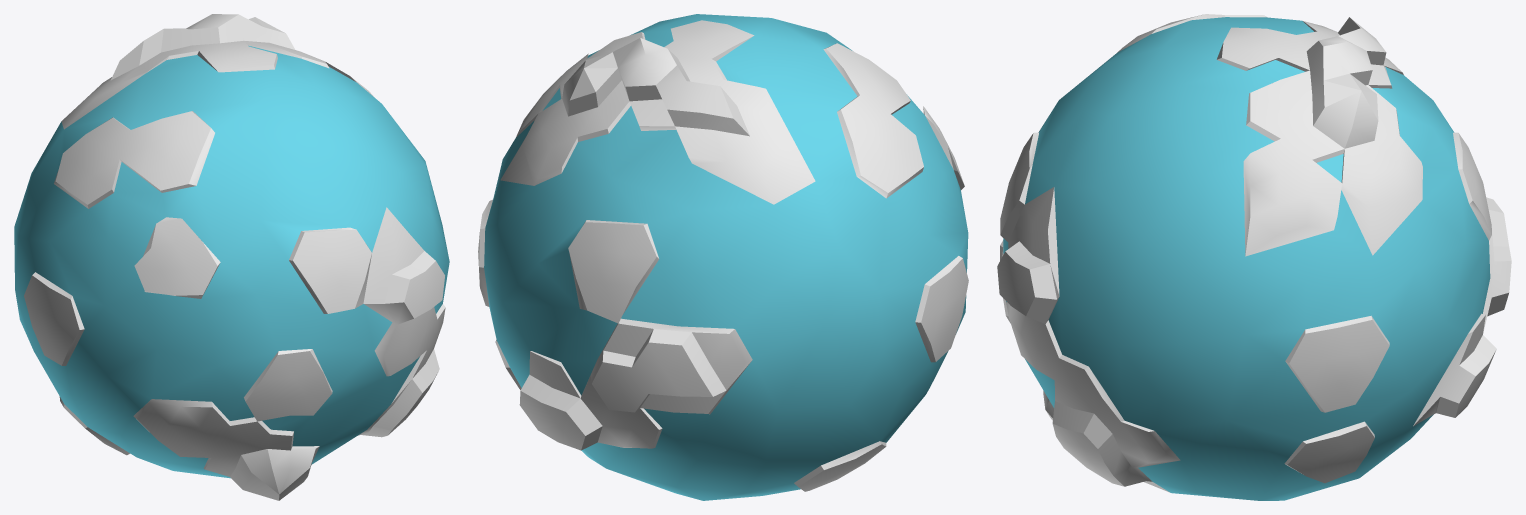
File: icePlanet.glb
3 views of the same model, side by side, from view 1: azimuth 30°, elevation 25°; view 2: azimuth 150°, elevation 25°; view 3: azimuth 270°, elevation 25° (orthographic). The views are drawn at different scales.
Visible parts, largest first — view 1: Toy_Planet_4; view 2: Toy_Planet_4; view 3: Toy_Planet_4.
Boxes of the visible parts, box(x1,y1,x2,y2) form: Toy_Planet_4: box(14, 14, 449, 500); Toy_Planet_4: box(478, 14, 968, 500); Toy_Planet_4: box(997, 14, 1511, 500).
Size of the model in its own units: 2.03 by 2.07 by 2.11.
Materials: 1 (1 with a texture image).
